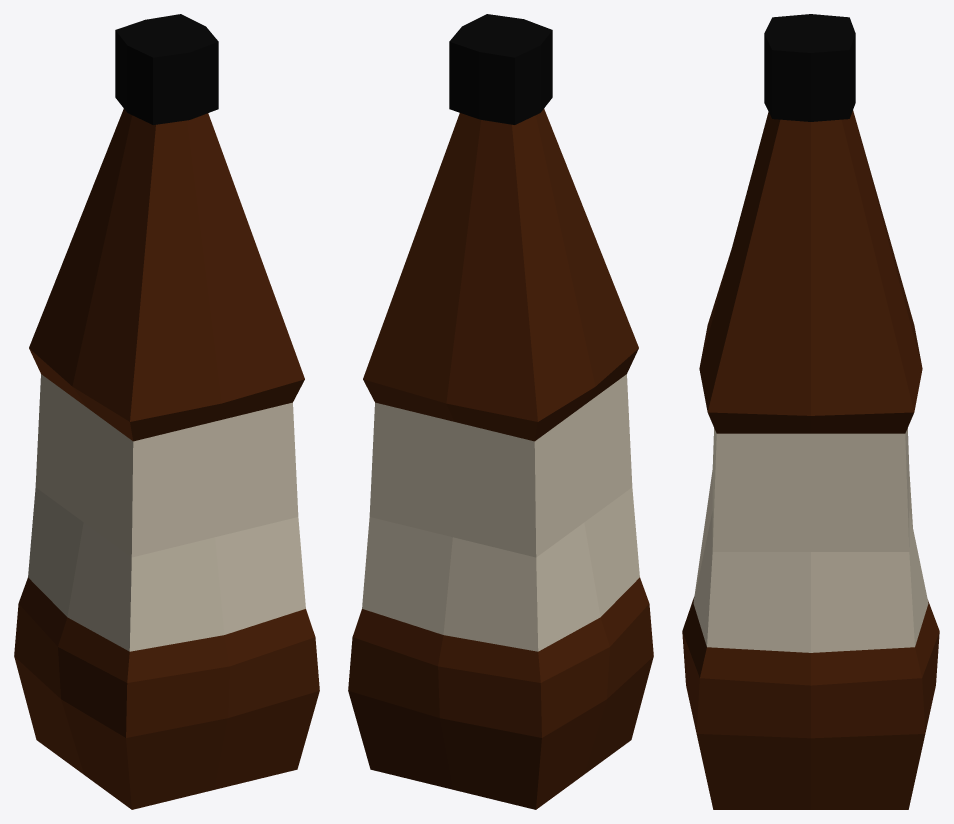
Rendered from Bottle.fbx.
3 views of the same model, side by side, from view 1: azimuth 30°, elevation 25°; view 2: azimuth 150°, elevation 25°; view 3: azimuth 270°, elevation 25° (orthographic). The views are drawn at different scales.
Parts seen in each view (by area): view 1: Cube; view 2: Cube; view 3: Cube.
Part boxes in pixels (x1,y1,x2,y2): Cube: (14,14,319,809); Cube: (348,14,653,809); Cube: (682,14,939,809).
Size of the model in its own units: 206 by 649 by 206.
